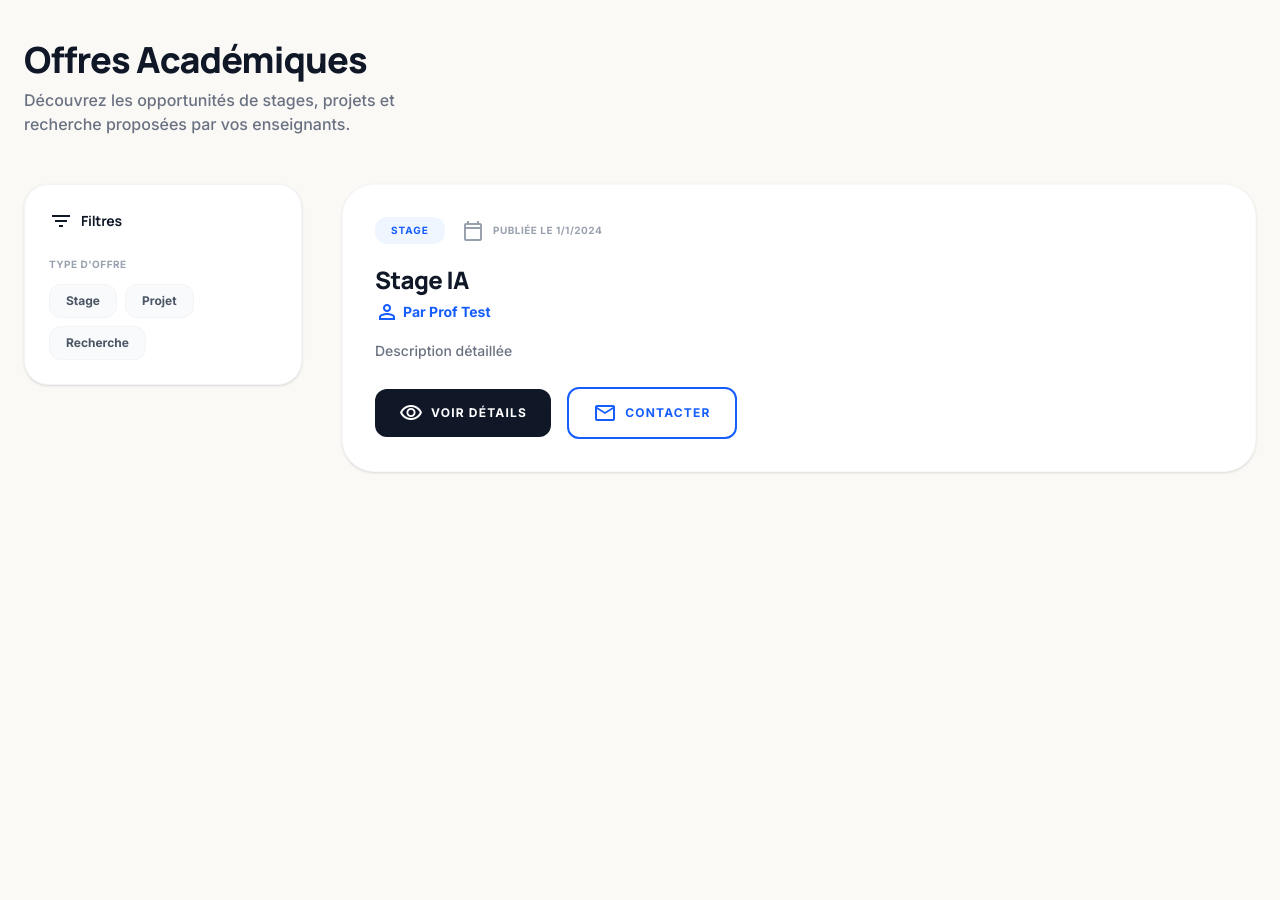
Test case: EtudiantOffres › ouvre le modal de détails
The image size is (1280, 900).
Expected: the heading "Stage IA" is shown, x1=375 y1=263 x2=469 y2=296
Click the button "Voir détails" at (463, 413), box x1=375 y1=389 x2=551 y2=437
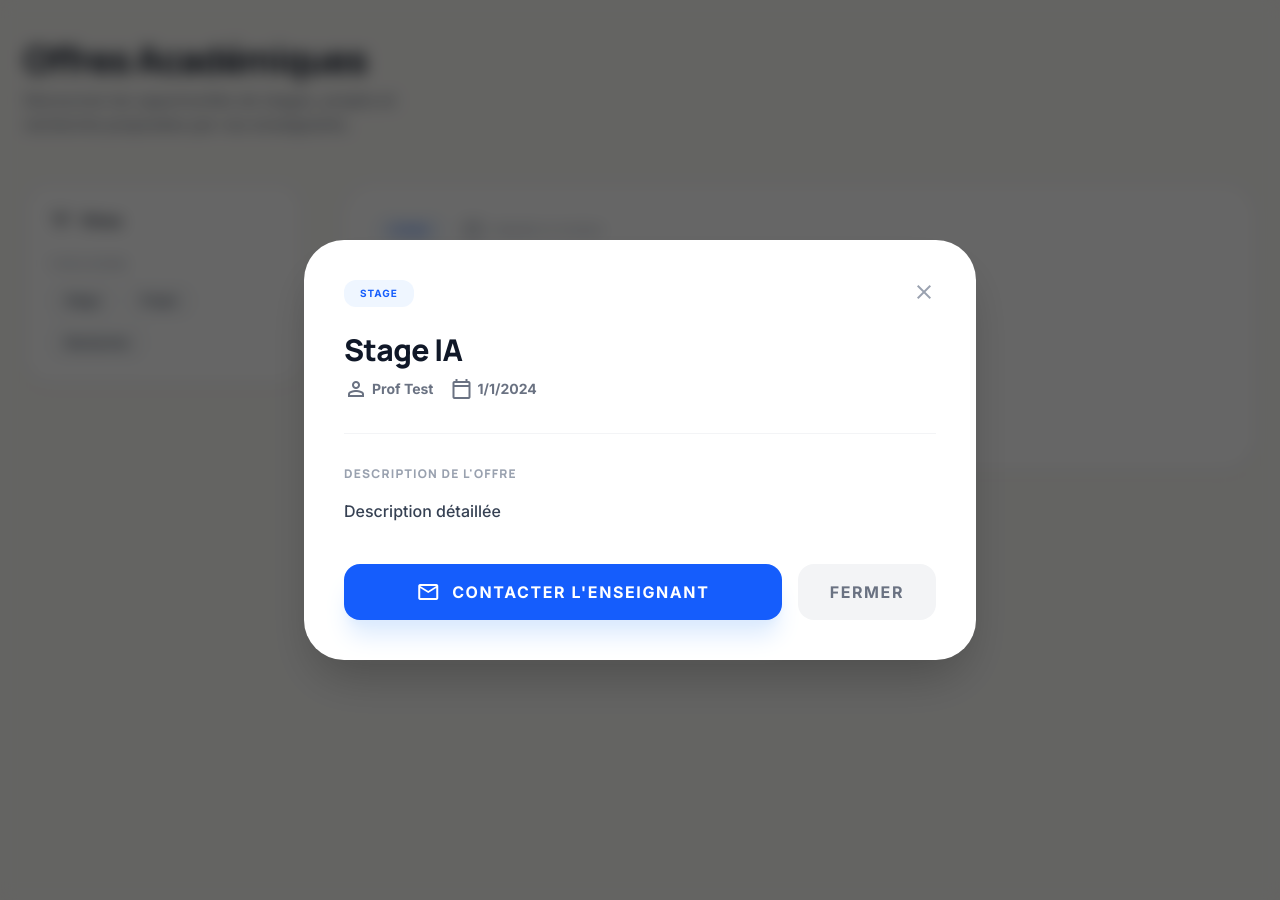
Now the heading "Description de l'offre" is shown, box x1=344 y1=466 x2=517 y2=482
